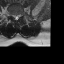CCS_normal: (15, 13, 17, 21)
LFS_normal: (19, 11, 21, 18)
LLS_normal: (17, 13, 19, 20)
RFS_normal: (12, 12, 14, 18)
RLS_normal: (13, 12, 15, 20)
